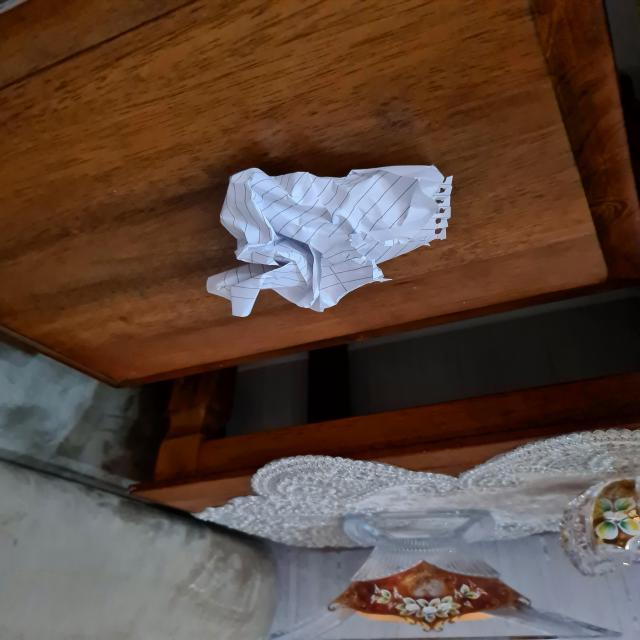Paper: (181, 164, 460, 315)
